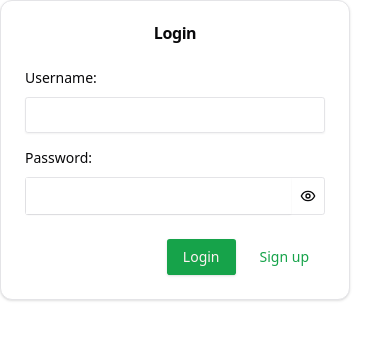
Test: show invalid credentials error
The image size is (367, 350).
Type "johndoe" into the field labelled "Username:".
click(175, 115); type("johndoe")  # box [25,97,325,133]
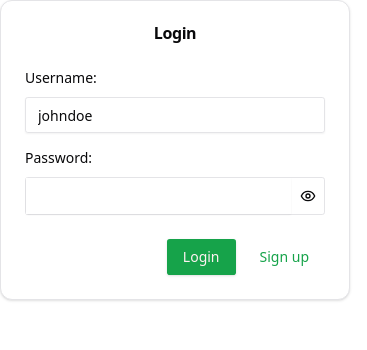
Type "1234" into the password field labelled "Password:".
click(158, 196); type("1234")  # box [26,178,291,214]
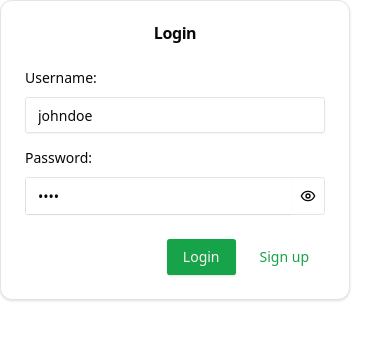
Click the button "Login".
click(201, 257)  # box [167,239,236,275]
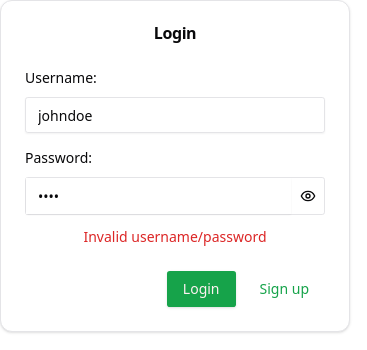
Expected: the button "Login" is enabled, [167,271,236,307]
Result: the text "Invalid username/password" is shown at [84,227,266,246]
